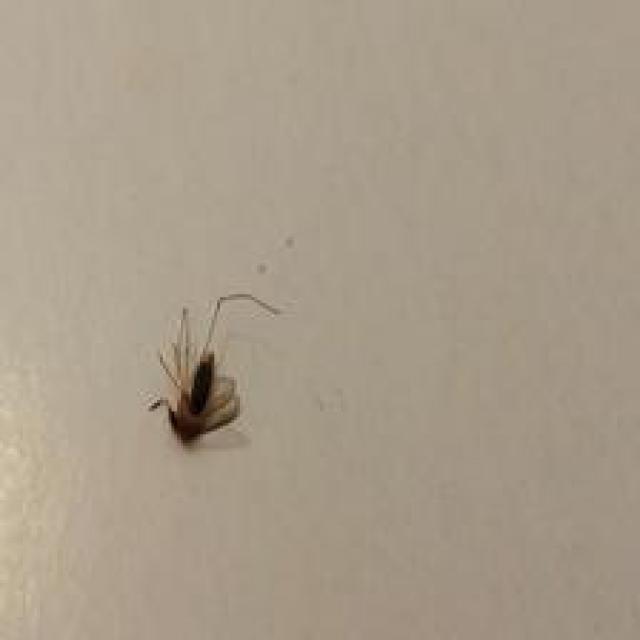Culex: (144, 291, 282, 446)
